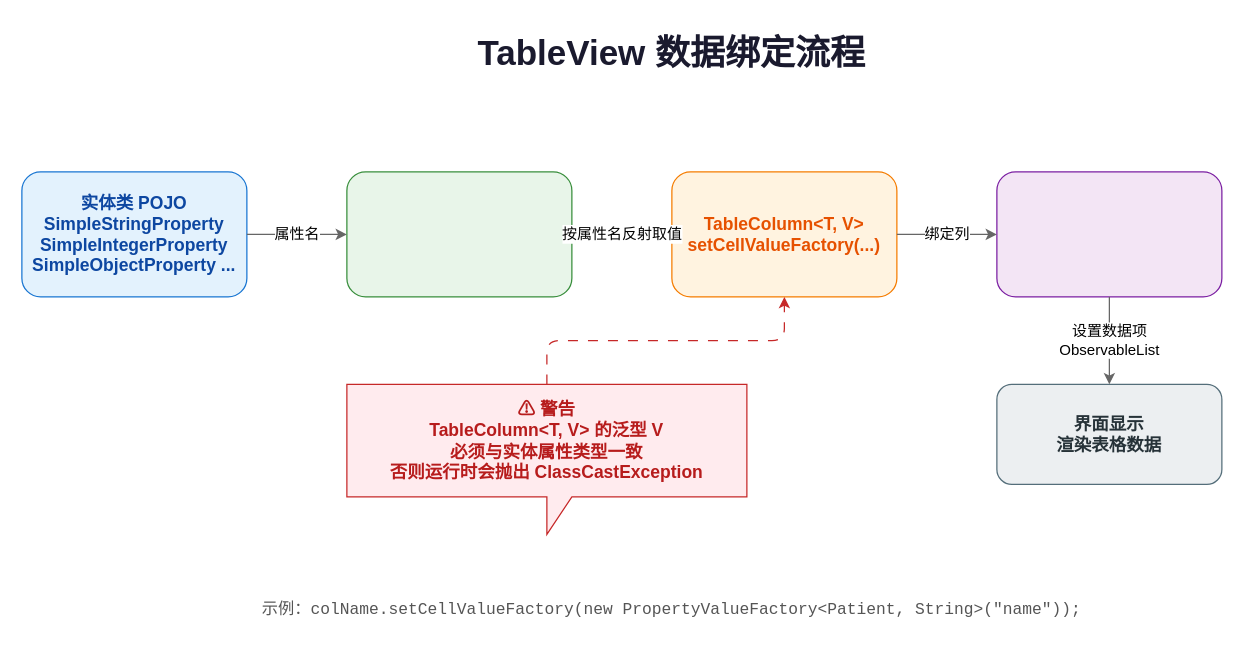
Image size: 1244x655. Some labels were removed from this diagram. The centre of each missing label's shape, as x and y in pixels:
PropertyValueFactory <Patient, String>: (x=459, y=234)
TableView<T> getColumns().add(col): (x=1109, y=234)
